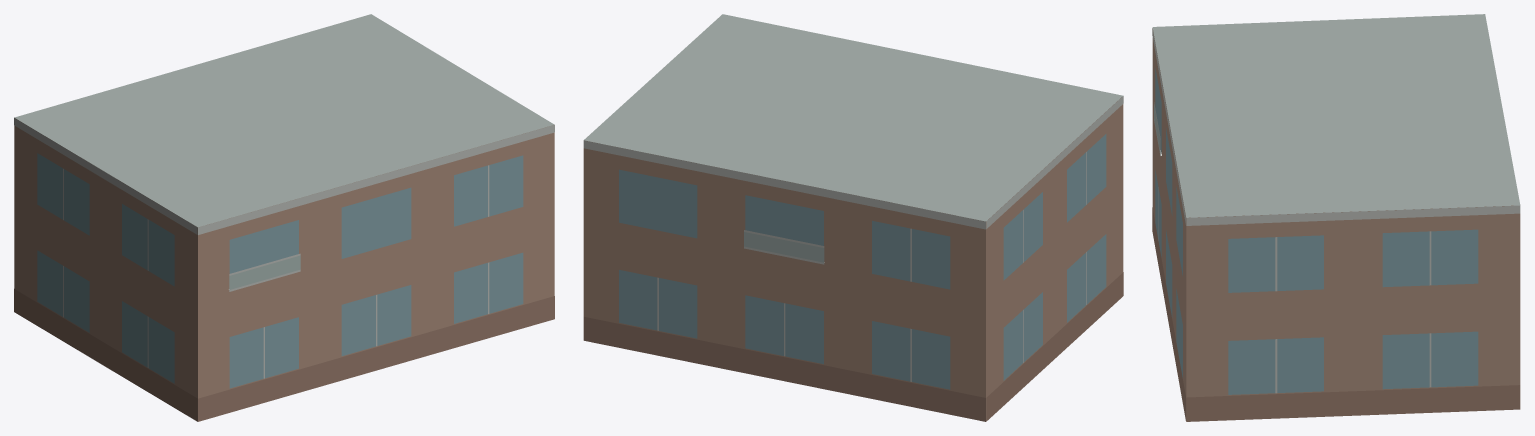
The model's file is survey-upis-32925923.glb.
The picture shows the model from 3 angles, left to right: view 1: azimuth 30°, elevation 25°; view 2: azimuth 150°, elevation 25°; view 3: azimuth 270°, elevation 25°; orthographic projection. The views are drawn at different scales.
Visible parts, largest first — view 1: survey-upis-32925923.tmp; view 2: survey-upis-32925923.tmp; view 3: survey-upis-32925923.tmp.
Boxes of the visible parts, box(x1,y1,x2,y2) form: survey-upis-32925923.tmp: box(14, 14, 554, 421); survey-upis-32925923.tmp: box(583, 14, 1123, 421); survey-upis-32925923.tmp: box(1152, 14, 1520, 421).
Bounding box in the file's own units: 13.08 × 6.1 × 9.98.
